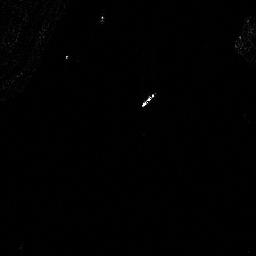ship: (141, 91, 157, 108)
